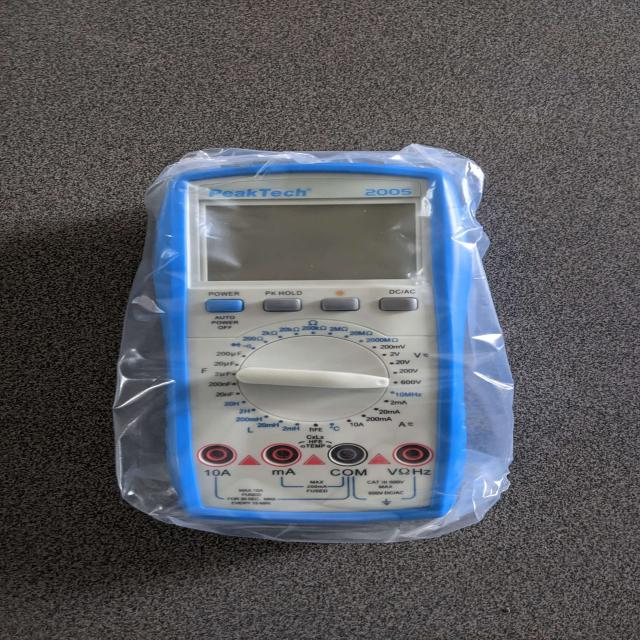Digital Multimeter: (124, 144, 518, 544)
